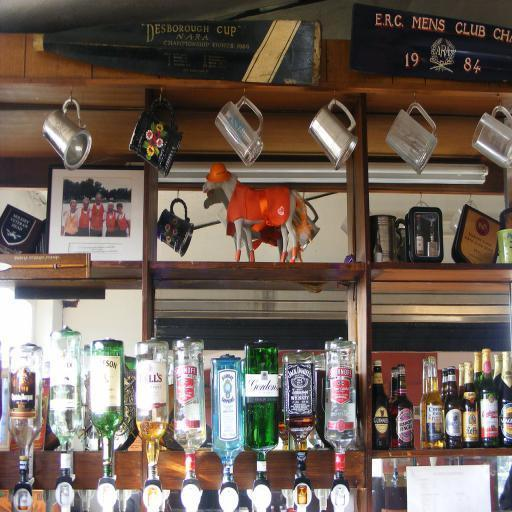horse: (202, 160, 312, 262)
